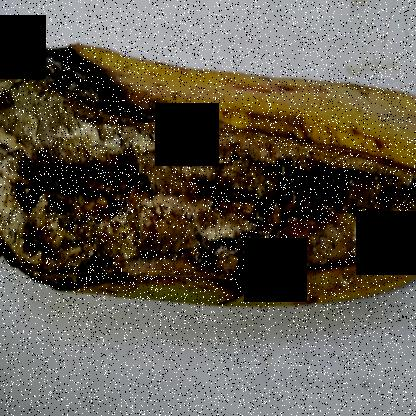rotten: (1, 13, 415, 316)
